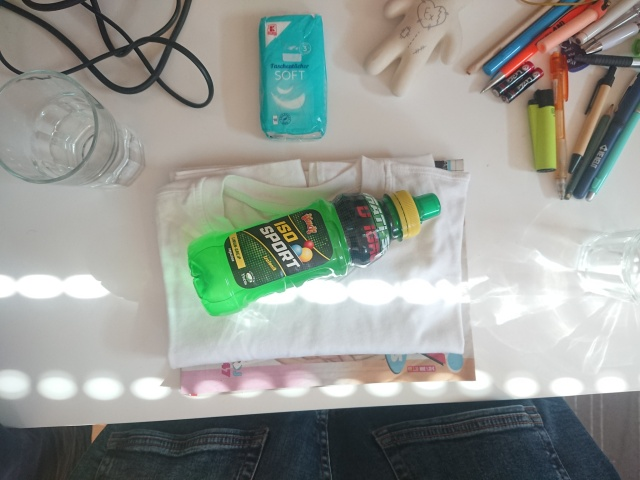Vindi Iso Sport Lemon-Grapefruit 500mL: (184, 187, 444, 320)
